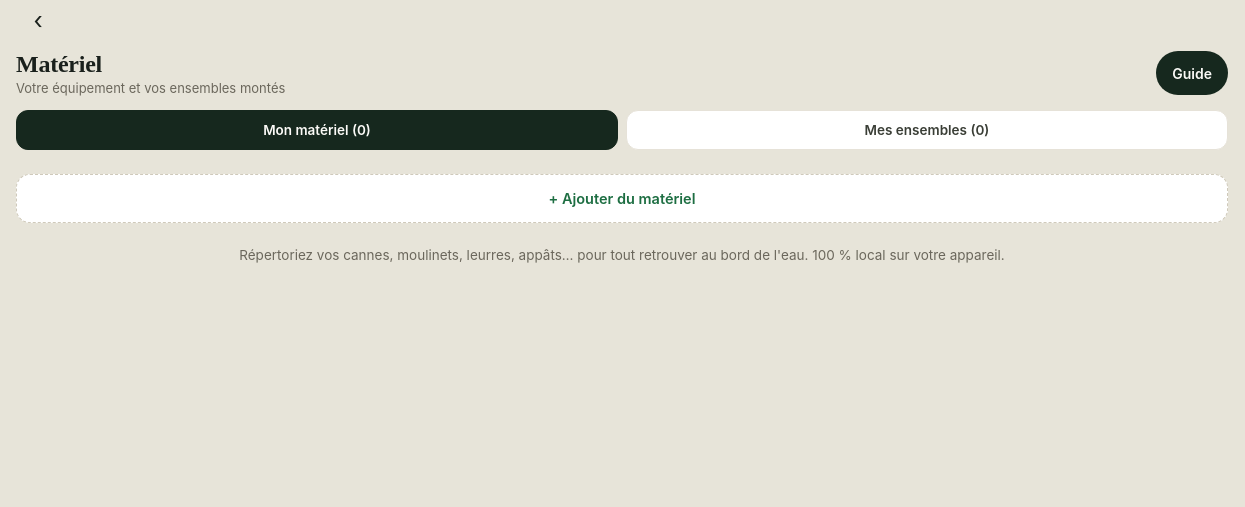
Scenario: Formulaires — chaque libellé désigne son champ › Matériel : le formulaire d'ajout n'a aucun label orphelin
The width and height of the screenshot is (1245, 507).
Click the button "+ Ajouter du matériel".
click(622, 198)  # box [16,174,1228,223]
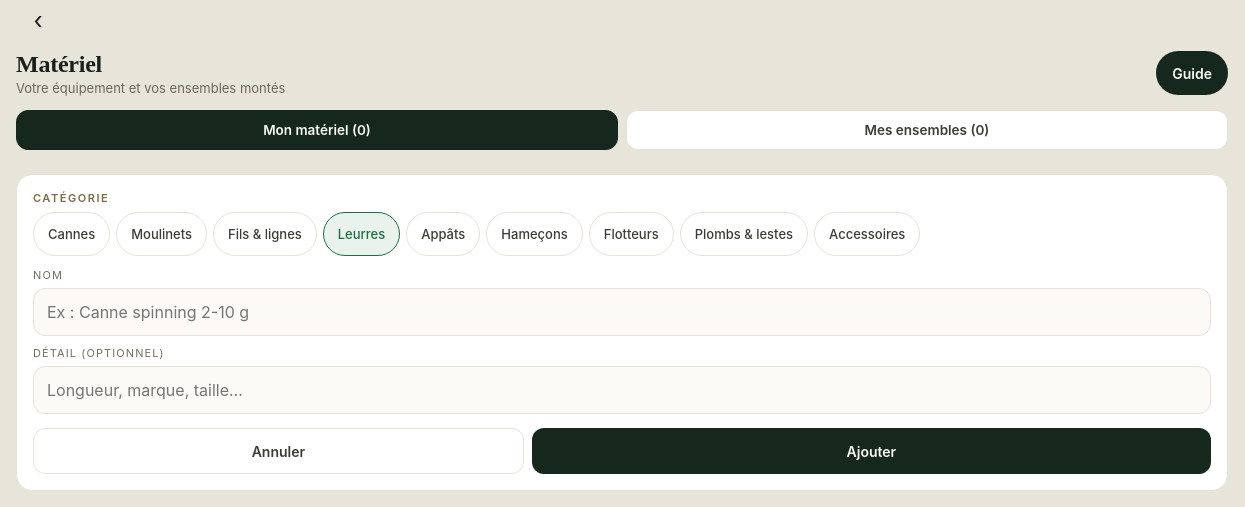
expect the field labelled "Nom" is shown: met, box [33,288,1211,336]
expect the field labelled "Détail (optionnel)" is shown: met, box [33,366,1211,414]
